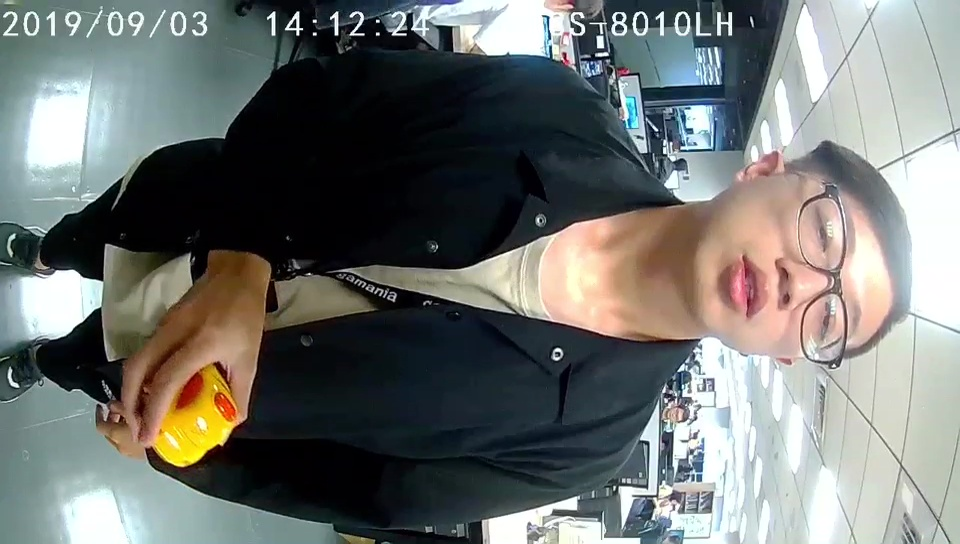car: (152, 362, 234, 465)
